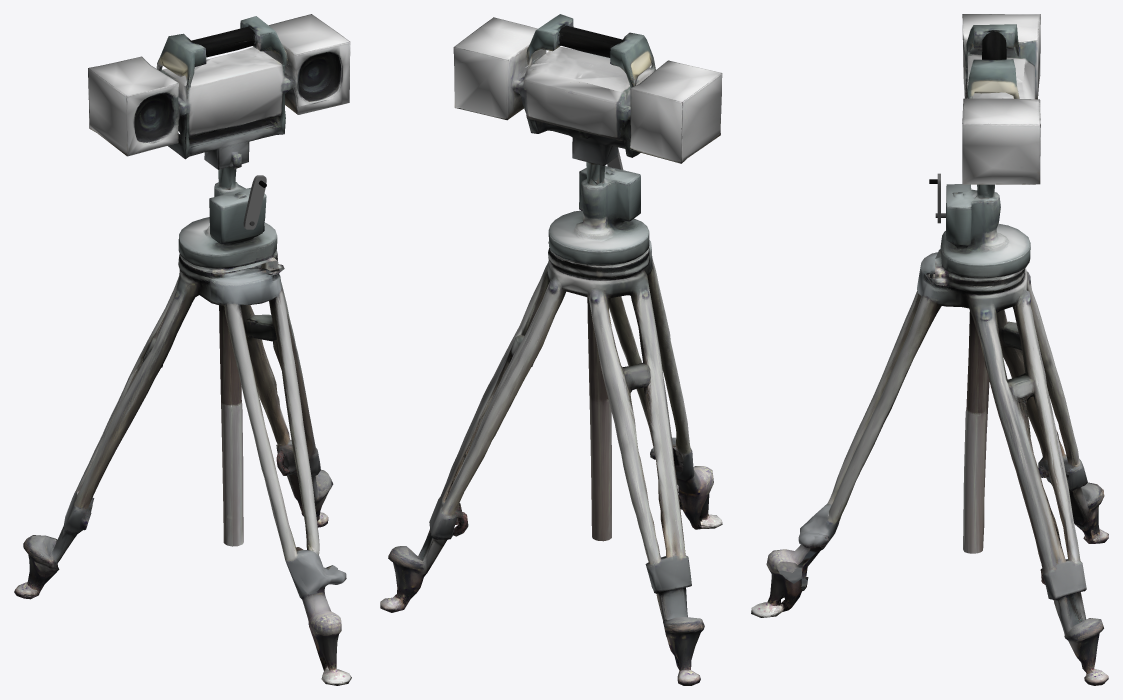
3 renders of one model, left to right at view 1: azimuth 30°, elevation 25°; view 2: azimuth 150°, elevation 25°; view 3: azimuth 270°, elevation 25°, orthographic. The views are drawn at different scales.
Visible parts, largest first — view 1: geometry_0, Cube; view 2: geometry_0; view 3: geometry_0.
Part boxes in pixels (x1,y1,x2,y2): geometry_0: (14,14,351,685); Cube: (243,175,266,229); geometry_0: (380,14,722,685); geometry_0: (751,14,1108,685).
Size of the model in its own units: 0.5322 by 0.9184 by 0.5258.
Materials: 4 (1 with a texture image).
